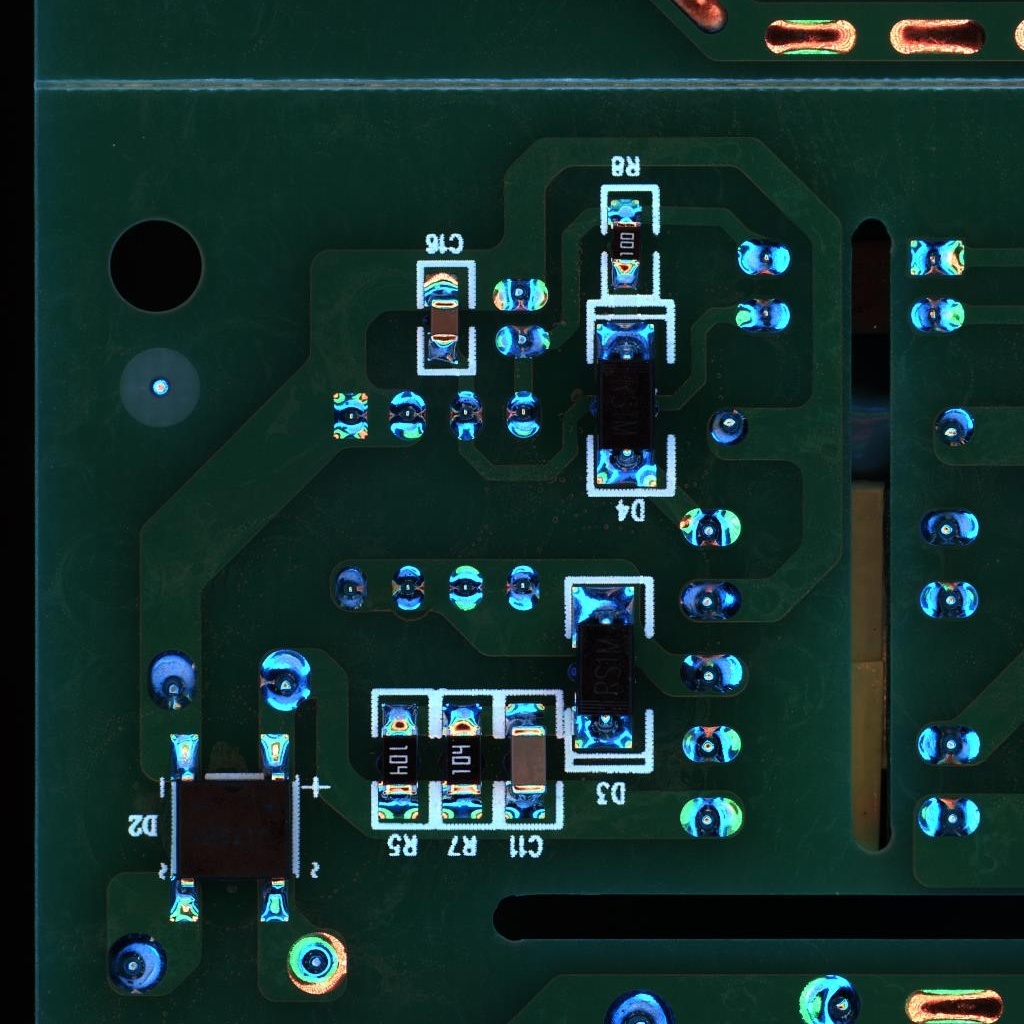spot: (285, 928, 351, 997), (103, 929, 168, 997), (258, 646, 314, 713), (793, 972, 863, 1024), (143, 649, 201, 709), (677, 578, 746, 623), (677, 795, 744, 841), (914, 723, 986, 765), (678, 722, 745, 766), (678, 653, 748, 695), (917, 792, 982, 836), (677, 506, 743, 548), (919, 507, 983, 550), (918, 580, 981, 622), (906, 236, 966, 280), (734, 237, 794, 280), (604, 988, 673, 1024), (490, 273, 552, 313), (330, 388, 371, 444), (908, 296, 966, 334), (387, 389, 428, 442), (732, 297, 792, 333), (448, 561, 486, 617), (503, 387, 543, 439), (492, 324, 553, 358), (390, 560, 429, 613), (446, 390, 484, 444), (504, 562, 543, 613), (933, 406, 977, 447), (707, 406, 750, 447), (332, 566, 367, 614)
